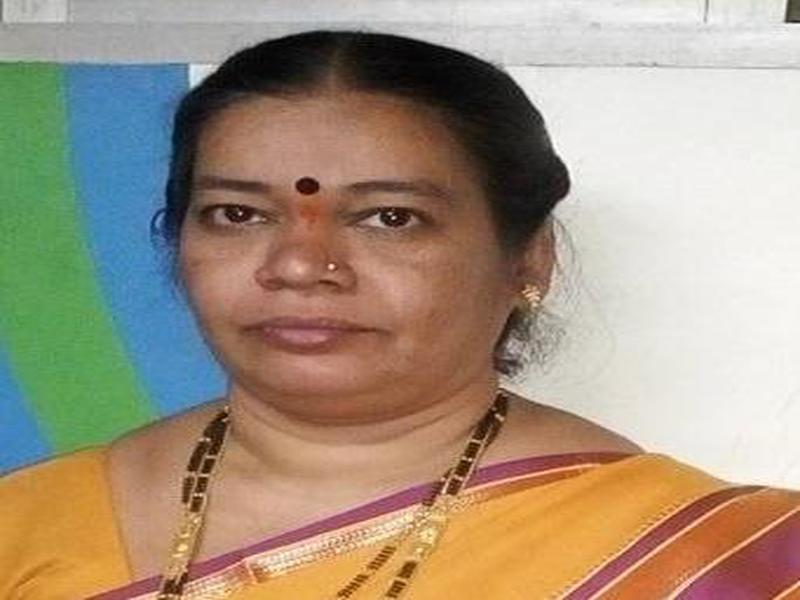without_mask: (182, 123, 500, 419)
